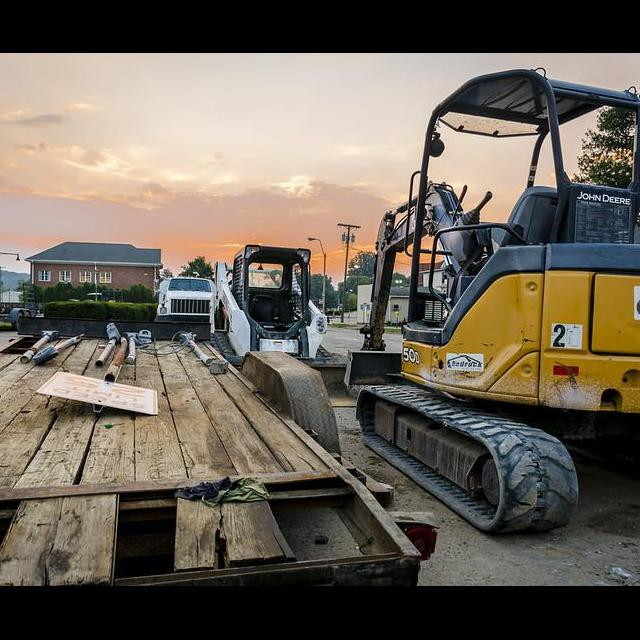Excavator: (345, 68, 640, 541)
dump truck: (155, 276, 216, 325)
wheel loader: (212, 244, 369, 408)
